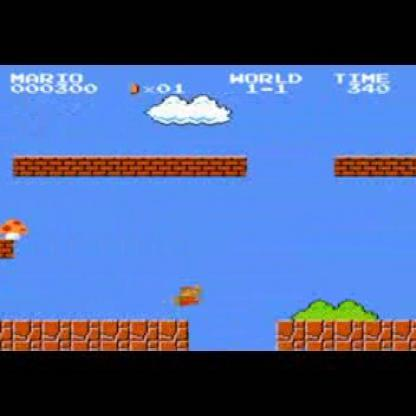Hoyo: (183, 317, 280, 349)
